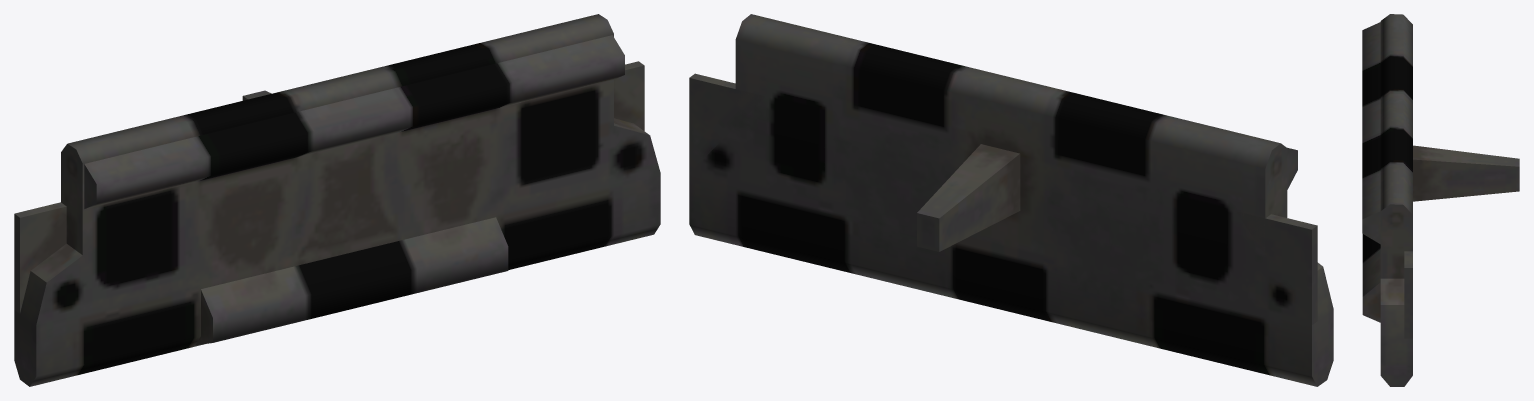
3 views of the same model, side by side, from view 1: azimuth 30°, elevation 25°; view 2: azimuth 150°, elevation 25°; view 3: azimuth 270°, elevation 25° (orthographic). The views are drawn at different scales.
Parts seen in each view (by area): view 1: set_0_group_0; view 2: set_0_group_0; view 3: set_0_group_0.
Part boxes in pixels (x1=…): set_0_group_0: x1=14, y1=14, x2=660, y2=386; set_0_group_0: x1=689, y1=14, x2=1333, y2=386; set_0_group_0: x1=1362, y1=14, x2=1519, y2=386.
Bounding box in the file's own units: 0.46 × 0.1592 × 0.1365.
1 material, 1 textured.
